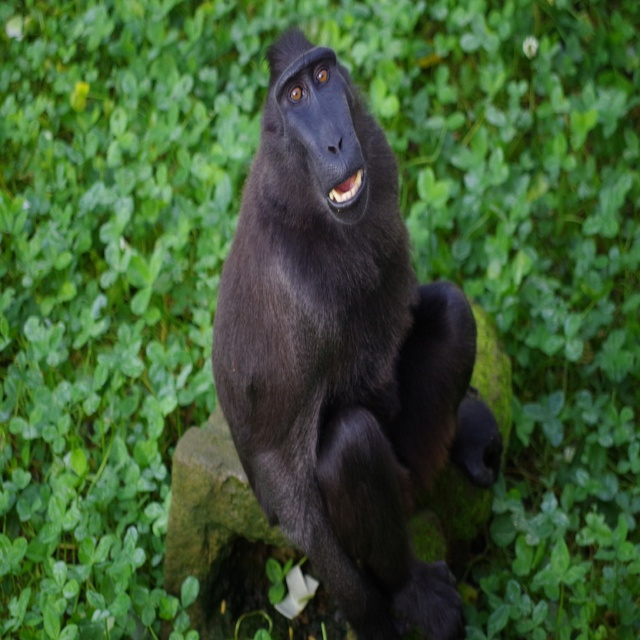Monkey: (211, 19, 504, 640)
